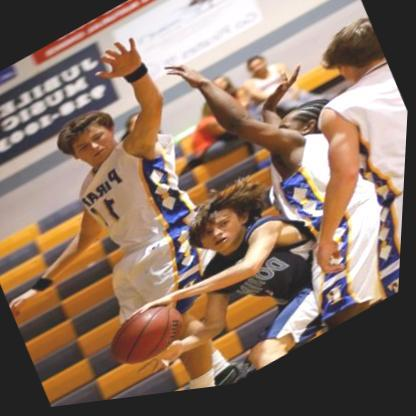basketball: (106, 294, 198, 377)
